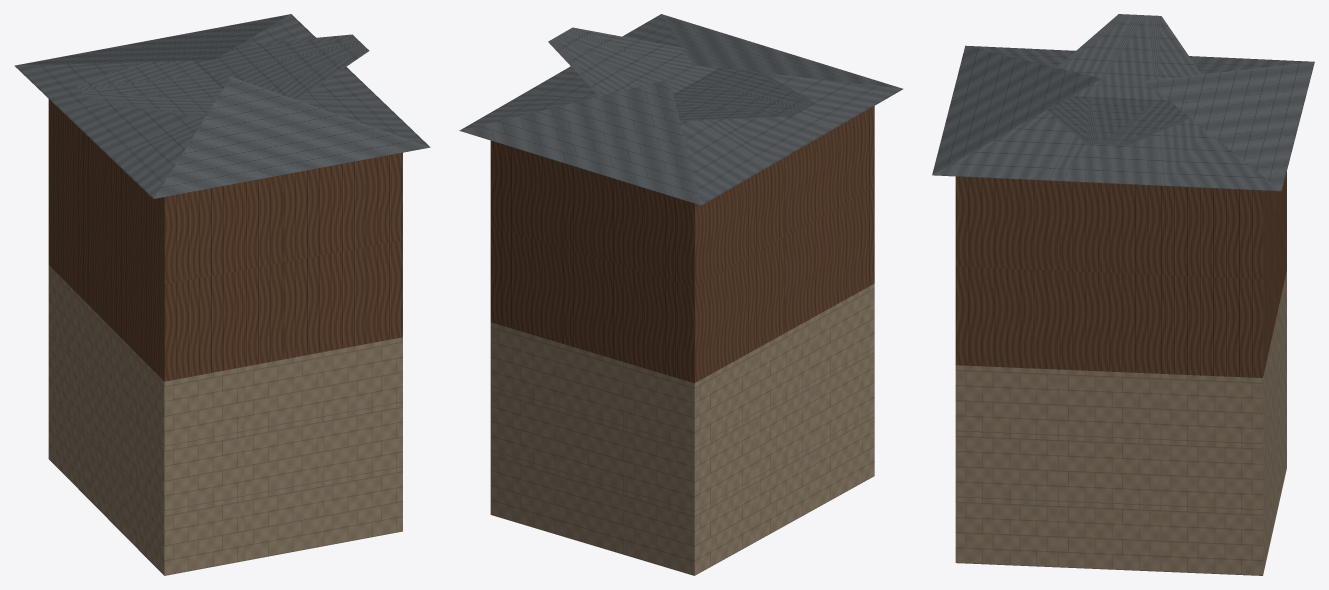
The model's file is bld_c-3_3_533.gltf.
3 renders of one model, left to right at view 1: azimuth 30°, elevation 25°; view 2: azimuth 150°, elevation 25°; view 3: azimuth 270°, elevation 25°, orthographic. The views are drawn at different scales.
Visible parts, largest first — view 1: bld_c-3_3_533; view 2: bld_c-3_3_533; view 3: bld_c-3_3_533.
Boxes of the visible parts, x1,y1,x2,y2 form: bld_c-3_3_533: (14,14,430,575); bld_c-3_3_533: (459,14,902,575); bld_c-3_3_533: (932,14,1314,575).
Bounding box in the file's own units: 8.05 × 11.2 × 8.94.
Materials: 3 (3 with a texture image).
